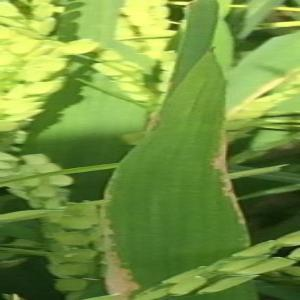2 BacterialBlight: (145, 67, 231, 263)
